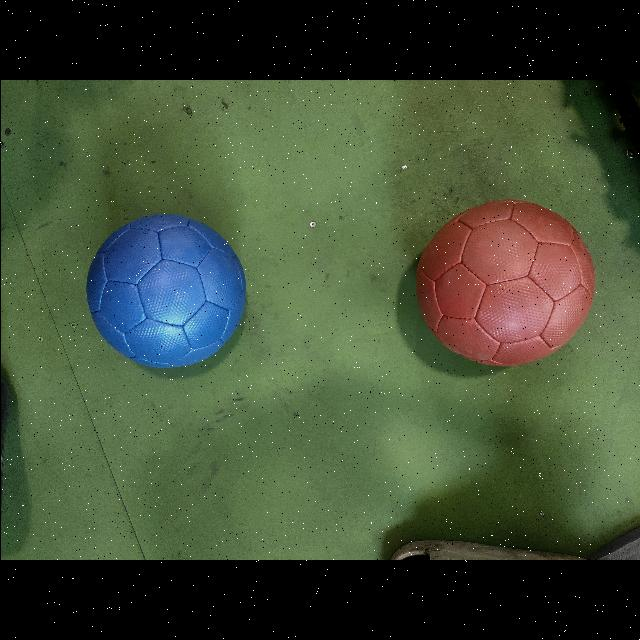B: (86, 215, 244, 368)
R: (416, 200, 594, 367)
